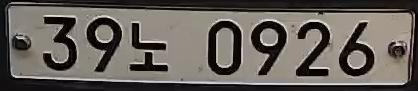0: (201, 16, 246, 78)
2: (291, 16, 337, 81)
3: (37, 11, 81, 72)
6: (336, 16, 381, 80)
9: (247, 13, 291, 81), (82, 12, 126, 76)
노: (125, 17, 174, 76)
